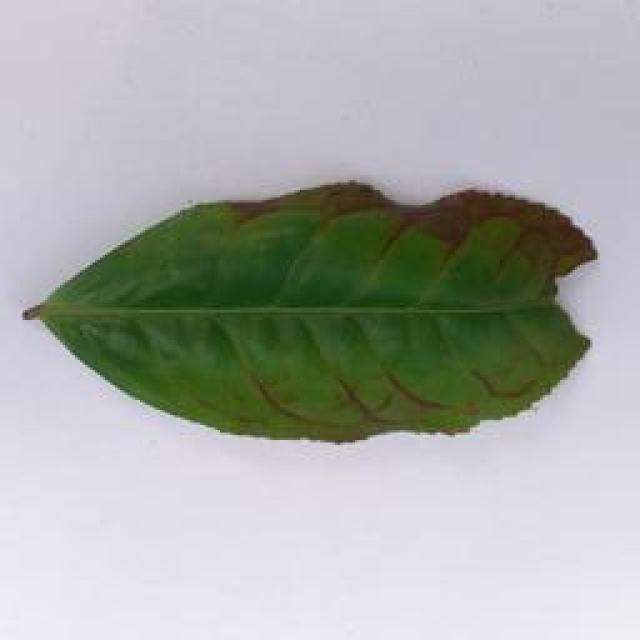Red Leaf Spot: (17, 175, 605, 460)
